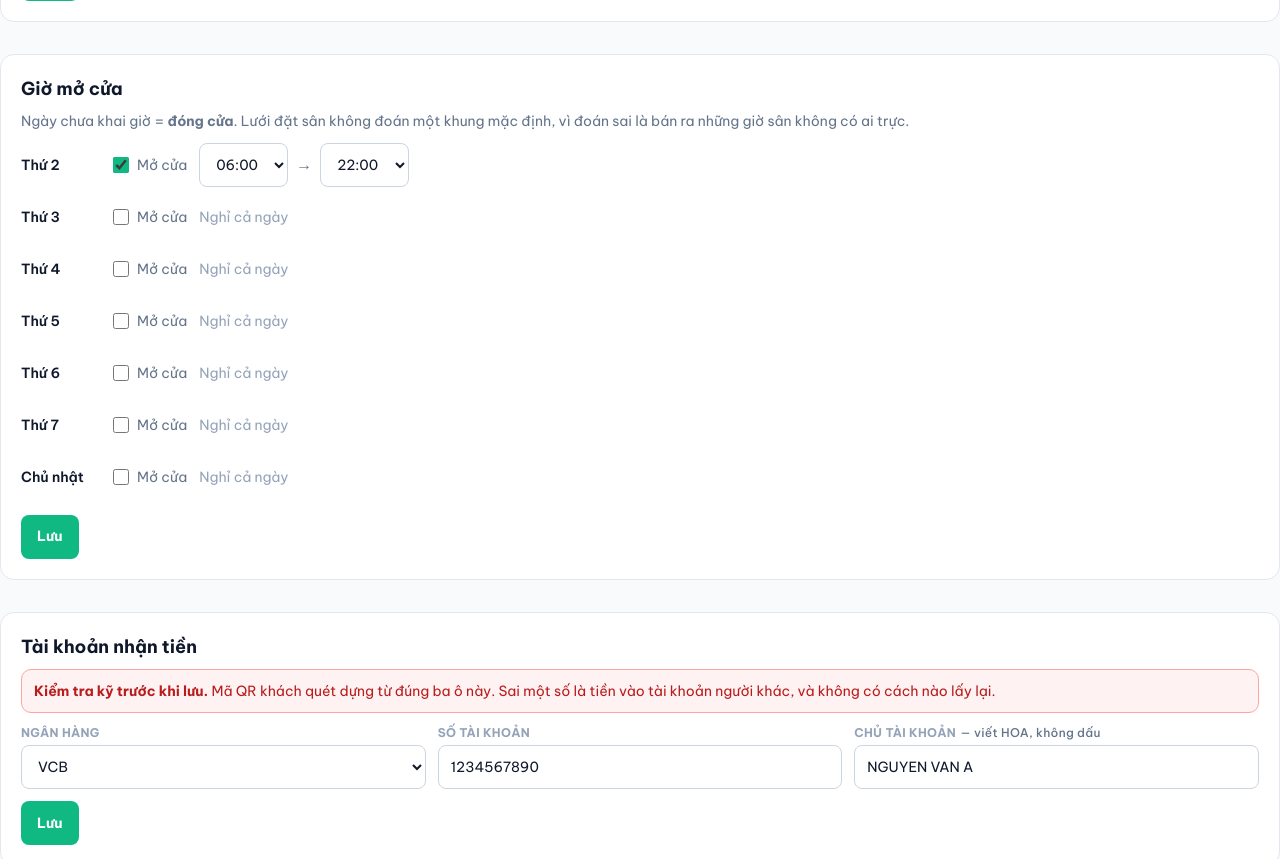
it: hồ sơ + ngân hàng — giữ dữ liệu khi action báo lỗi › ngân hàng: ngân hàng đã chọn và số tài khoản đã gõ còn nguyên sau lỗi
(page scrolled)
Step 1. Select "TCB" in the dropdown labelled "Ngân hàng" → (223, 767), box [21,745,426,789]
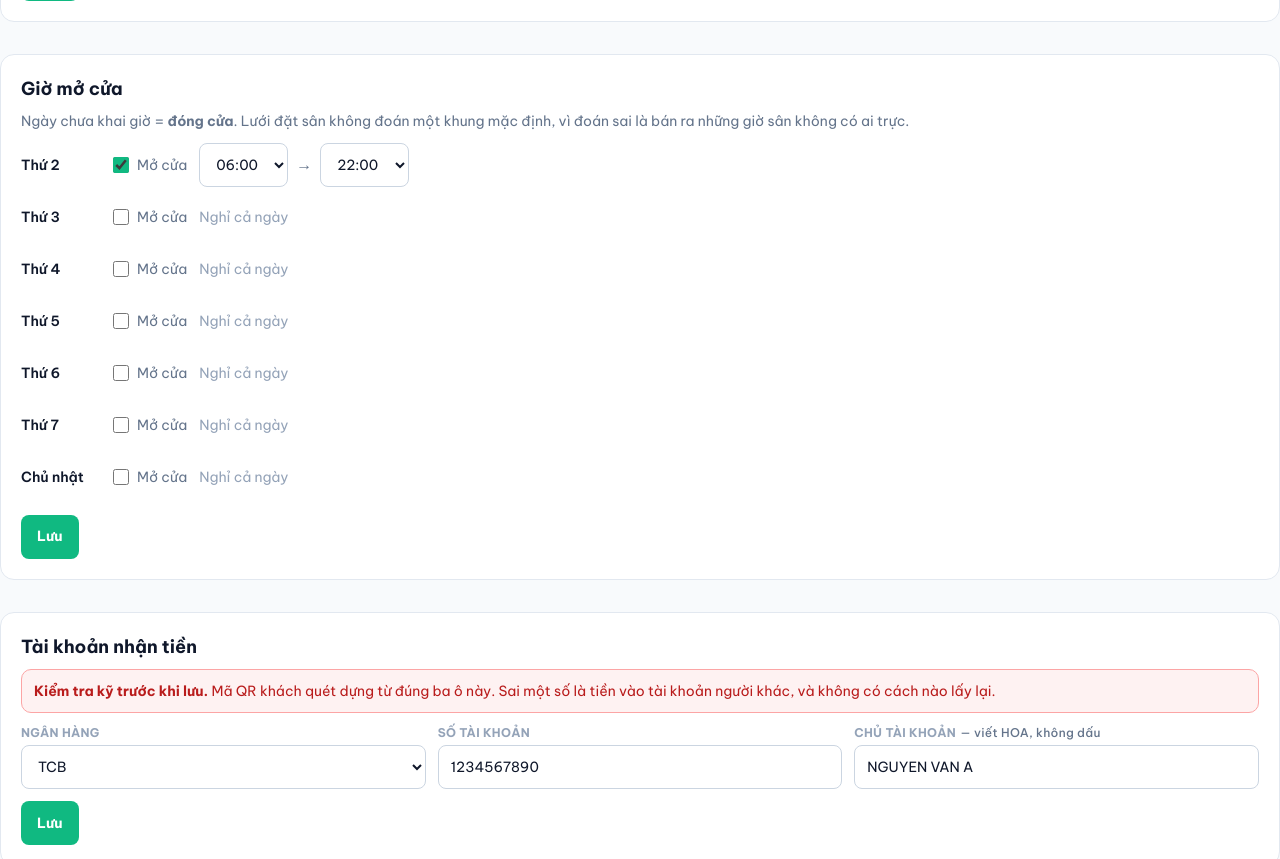
Step 2. Replace the text in the field showing "1234567890" with "999888777" → (640, 767), box [438,745,842,789]
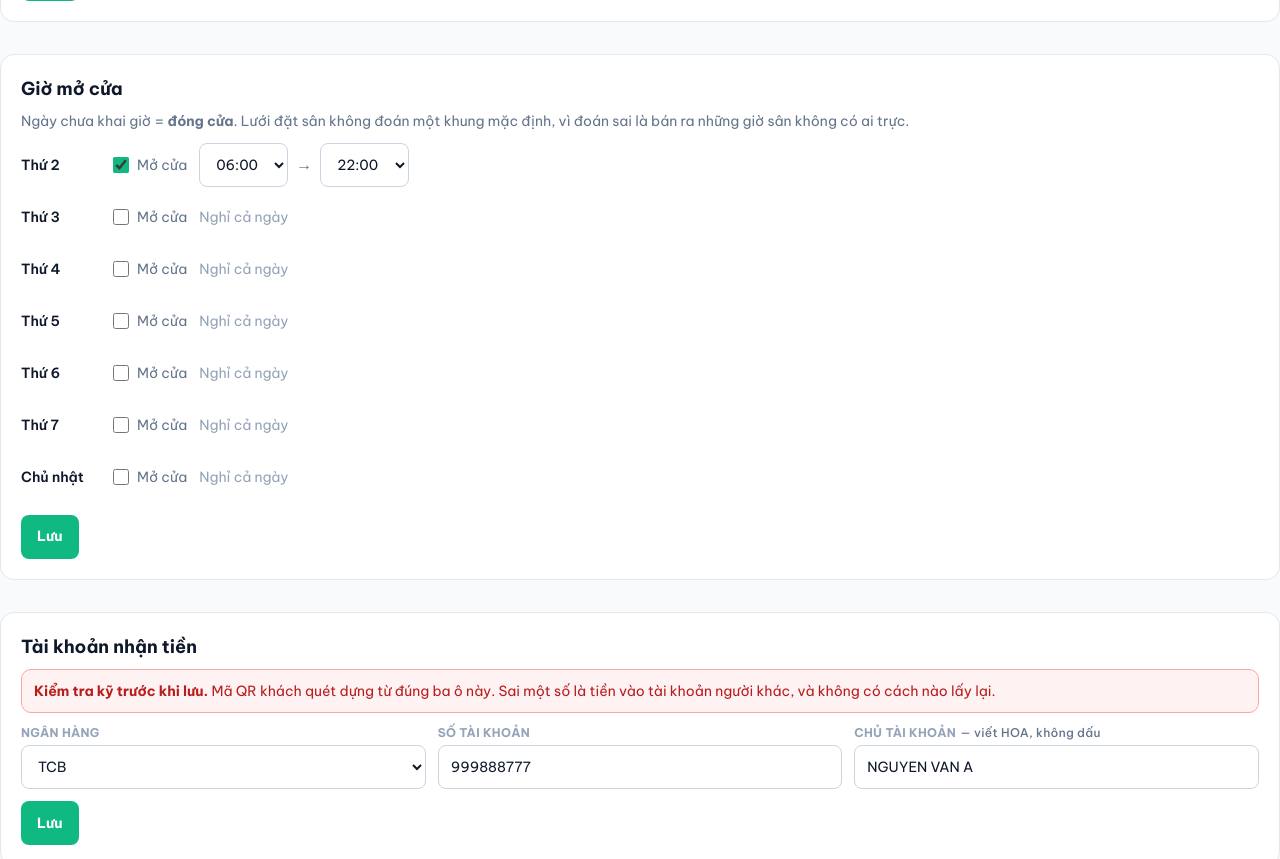
Step 3. Clear the field showing "NGUYEN VAN A" → (1057, 767), box [854,745,1259,789]
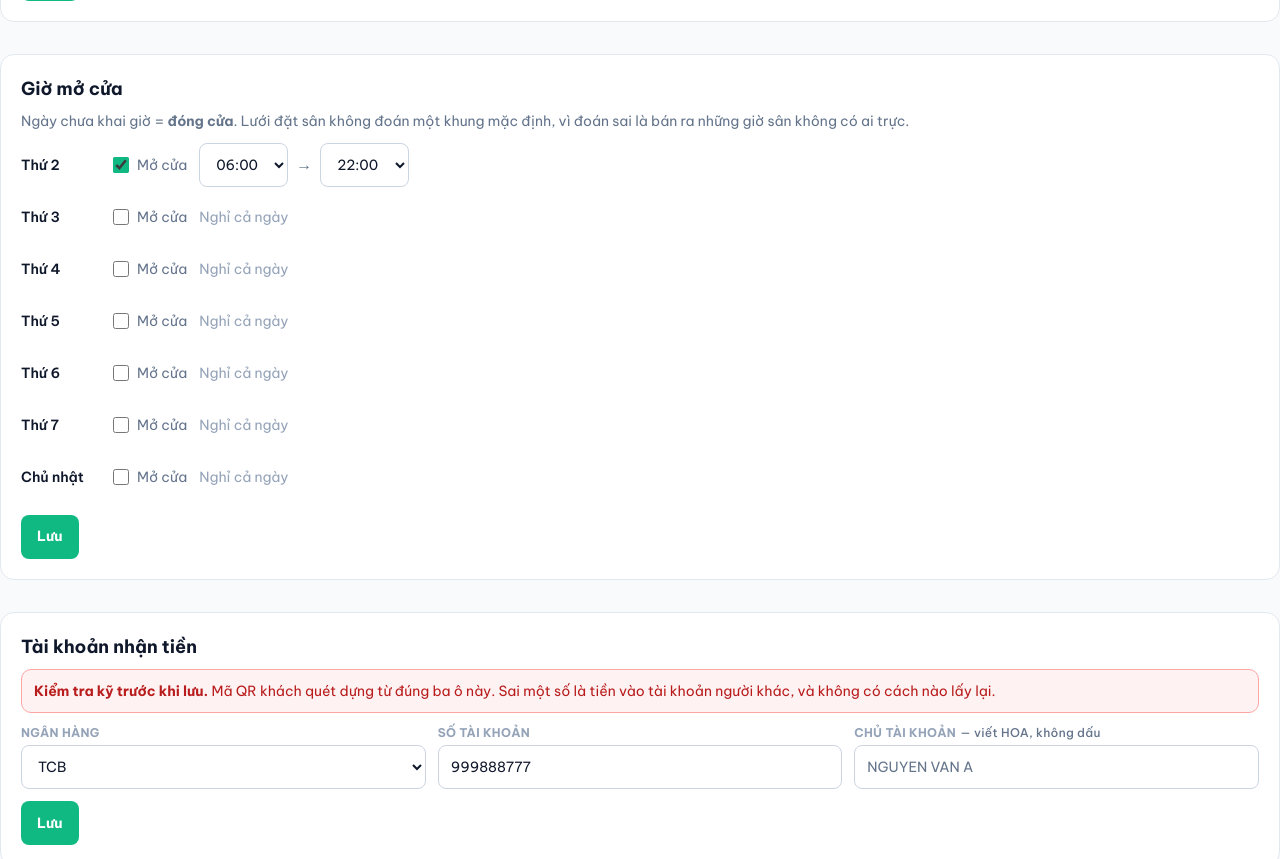
Step 4. Submit the form that starts with "Ngân hàng", box [21,725,1259,845]
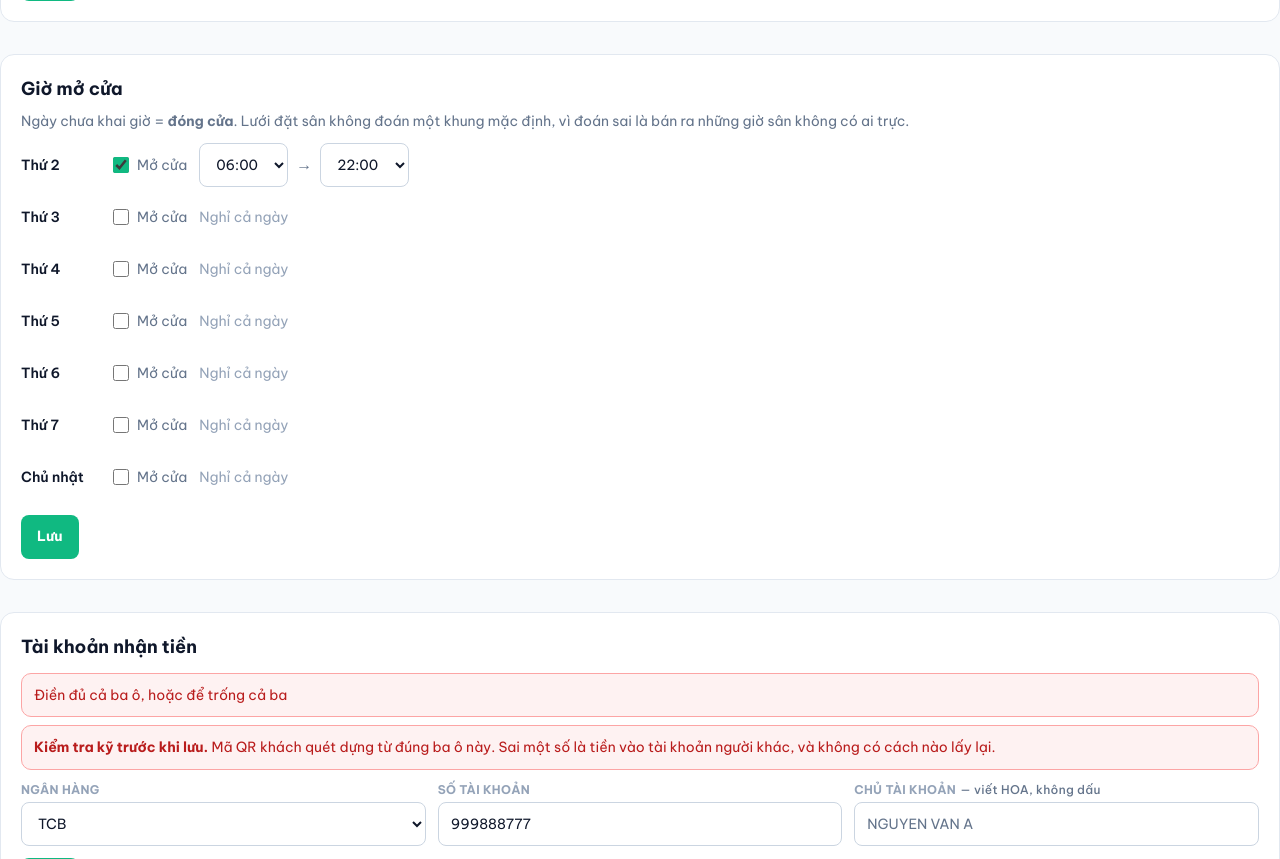
Expected: the dropdown labelled "Ngân hàng" shows "TCB", [21,802,426,846]
Expected: the message shows "đủ cả ba ô", [34,686,287,704]
